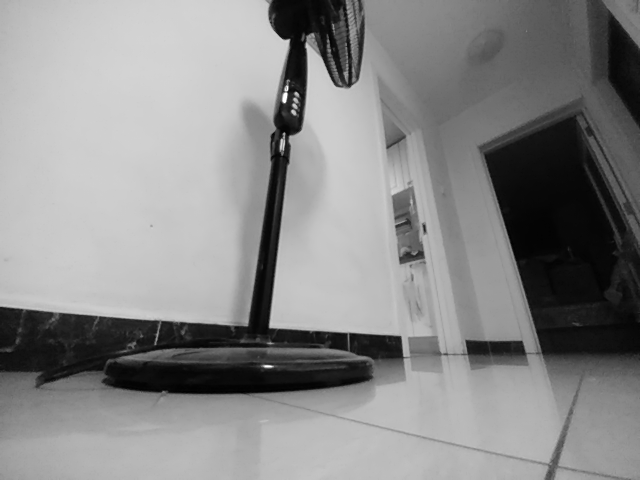bar stool: (101, 320, 378, 393)
